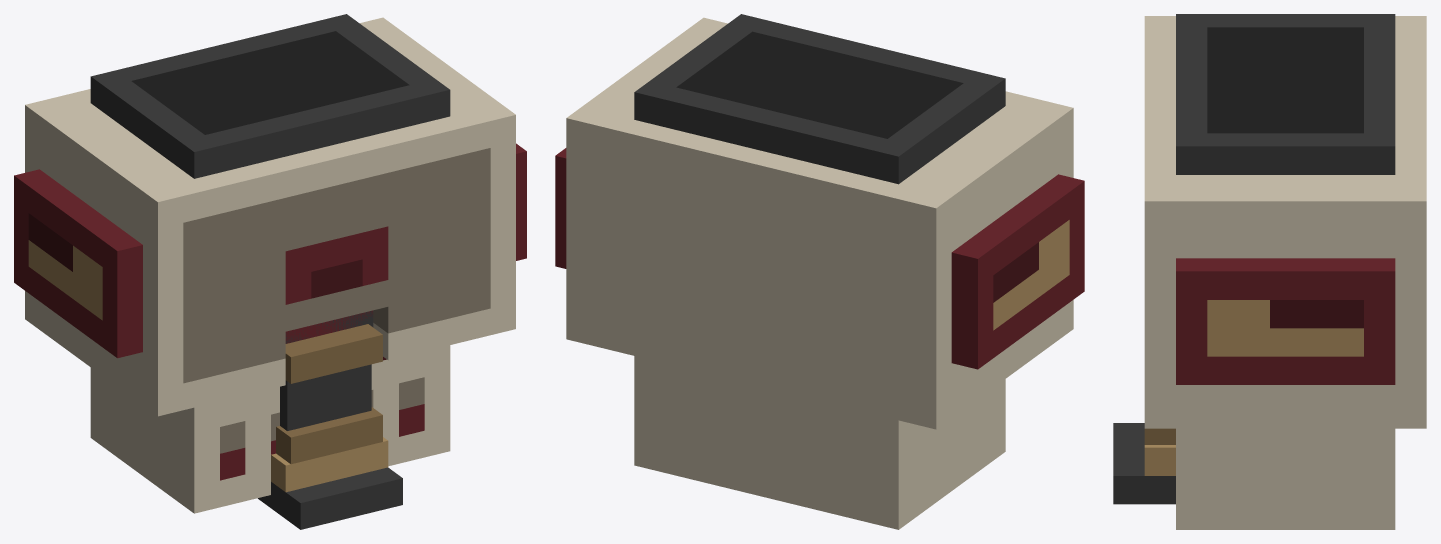
The model's file is robot rig.fbx.
3 renders of one model, left to right at view 1: azimuth 30°, elevation 25°; view 2: azimuth 150°, elevation 25°; view 3: azimuth 270°, elevation 25°, orthographic. The views are drawn at different scales.
Visible parts, largest first — view 1: head, body, leg_R, hand_R, arm_RB; view 2: head, body; view 3: head, body, leg_R, hand_R.
Boxes of the visible parts, left/top/right/bottom form: head: left=14, top=14, right=526, bottom=416; body: left=90, top=310, right=450, bottom=513; leg_R: left=258, top=437, right=402, bottom=529; hand_R: left=276, top=324, right=382, bottom=464; arm_RB: left=280, top=364, right=371, bottom=430; head: left=555, top=14, right=1084, bottom=429; body: left=634, top=356, right=1005, bottom=529; head: left=1144, top=14, right=1426, bottom=428; body: left=1176, top=428, right=1395, bottom=529; leg_R: left=1113, top=423, right=1175, bottom=504; hand_R: left=1144, top=428, right=1175, bottom=444.
Size of the model in its own units: 16 by 14 by 10.
2 materials, 2 textured.
